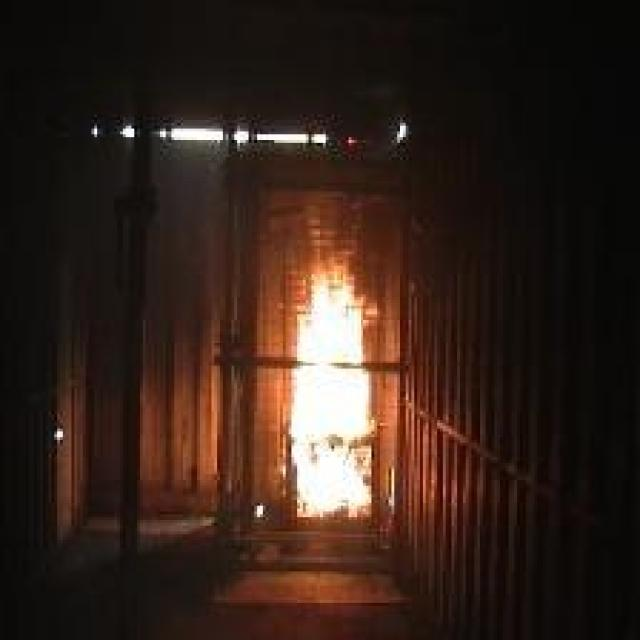fire: (277, 212, 394, 534)
